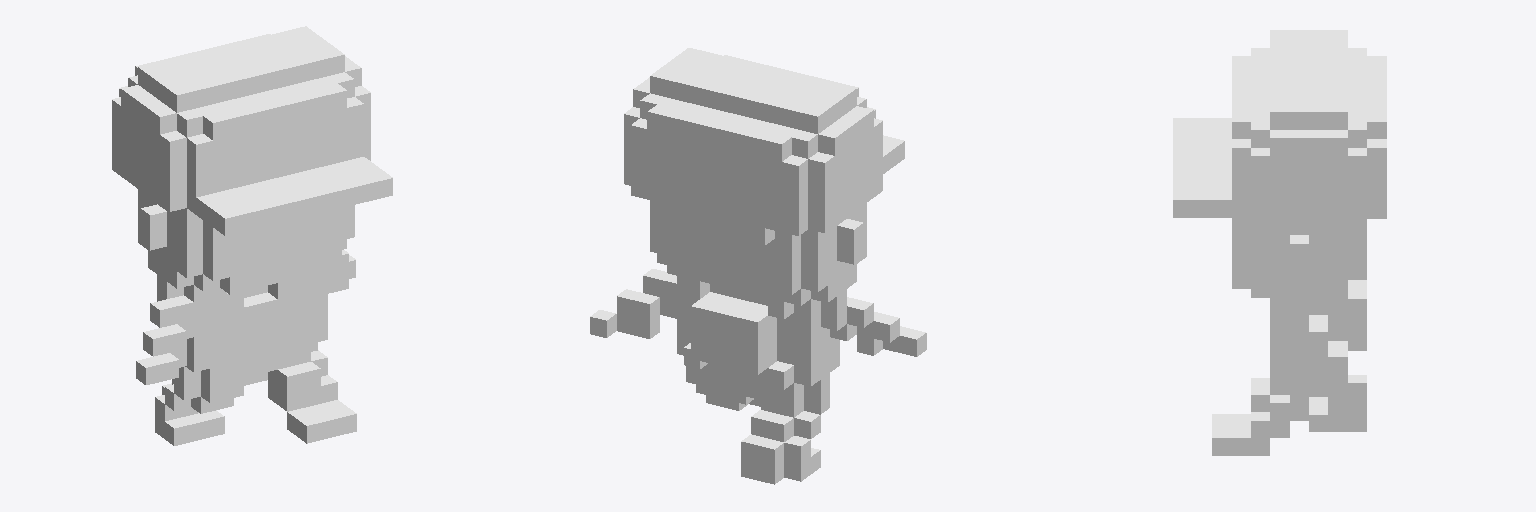
Rendered from player-full-walk-left.obj.
3 renders of one model, left to right at view 1: azimuth 30°, elevation 25°; view 2: azimuth 150°, elevation 25°; view 3: azimuth 270°, elevation 25°, orthographic.
Parts seen in each view (by area): view 1: object 1; view 2: object 1; view 3: object 1.
Part boxes in pixels (x1,y1,x2,y2): object 1: (112, 26, 392, 445); object 1: (590, 48, 926, 484); object 1: (1173, 30, 1386, 455).
Size of the model in its own units: 1.6 by 2.1 by 1.1.